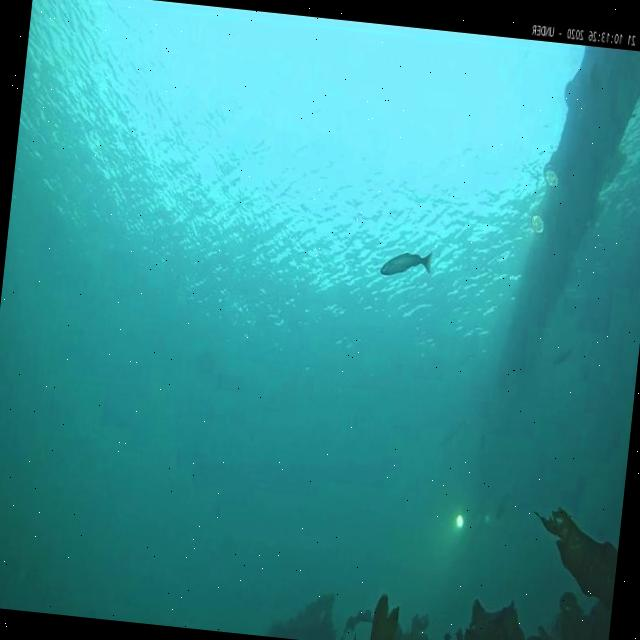fish: (380, 245, 432, 280), (436, 414, 465, 452), (494, 490, 510, 520), (552, 346, 572, 368)
